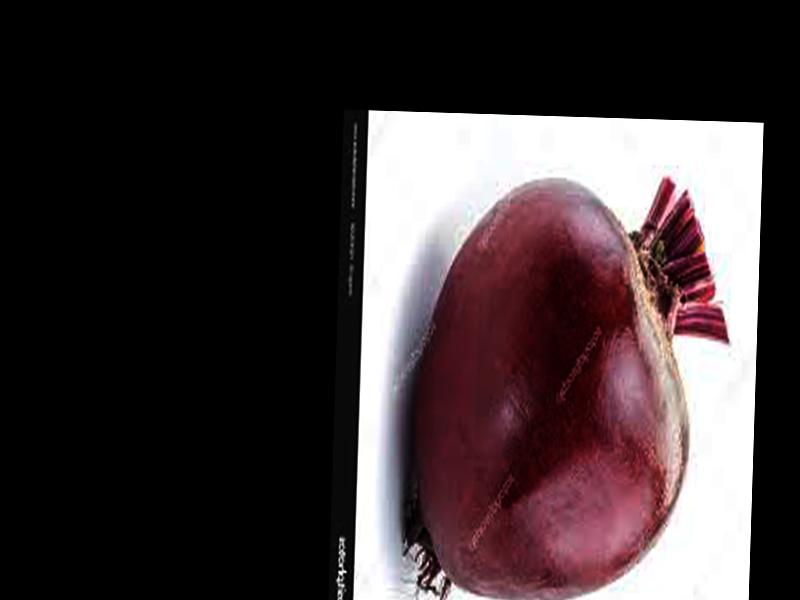Beet: (406, 173, 730, 600)
